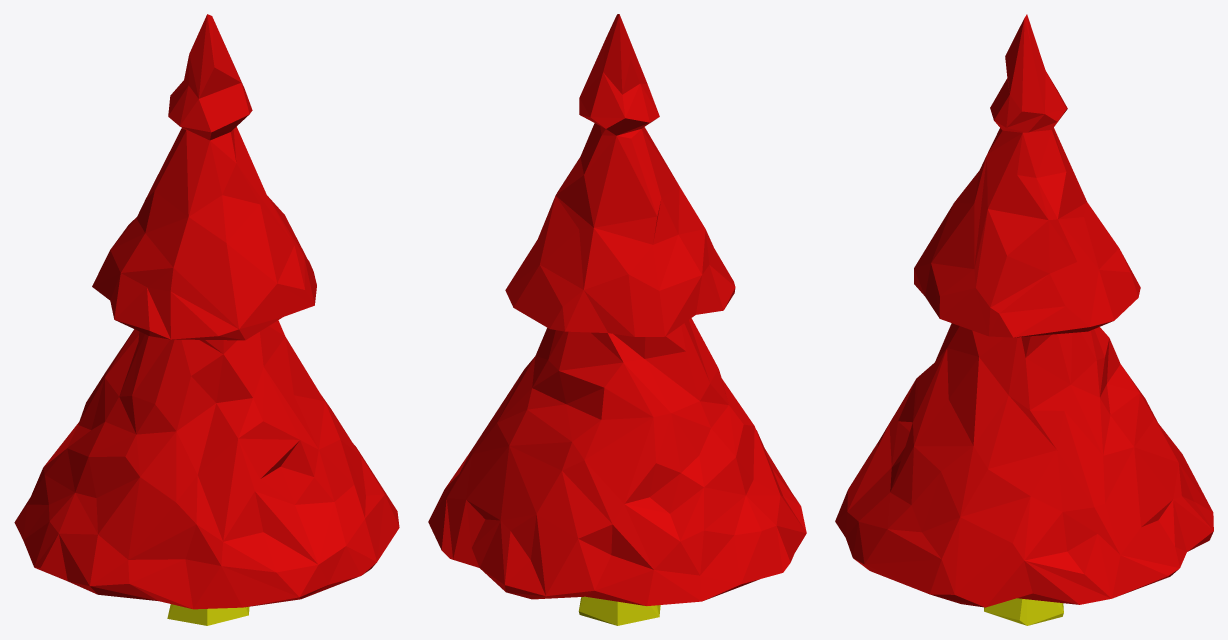
The model's file is tree 1.fbx.
The picture shows the model from 3 angles, left to right: view 1: azimuth 30°, elevation 25°; view 2: azimuth 150°, elevation 25°; view 3: azimuth 270°, elevation 25°; orthographic projection.
Visible parts, largest first — view 1: pCylinder5; view 2: pCylinder5; view 3: pCylinder5.
Boxes of the visible parts, x1,y1,x2,y2 form: pCylinder5: (14, 14, 399, 625); pCylinder5: (428, 14, 806, 625); pCylinder5: (835, 14, 1213, 625).
Bounding box in the file's own units: 1.73 × 2.96 × 1.71.
